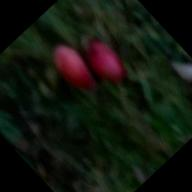Apples: (47, 40, 98, 94), (80, 38, 129, 86)
